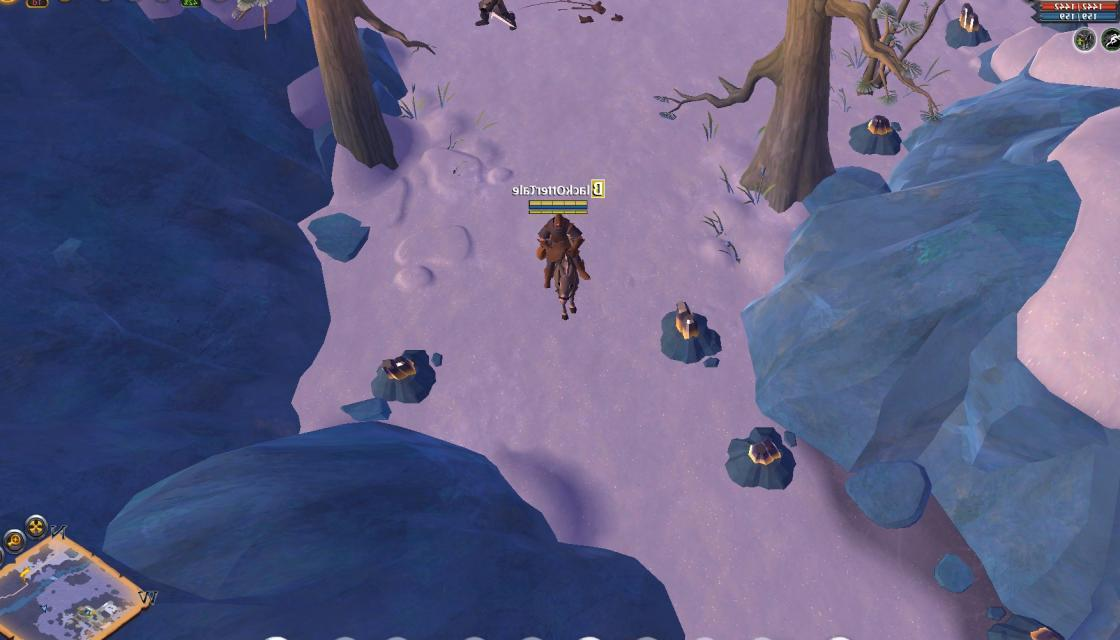copperore: (726, 421, 796, 486), (658, 300, 722, 362), (373, 348, 435, 401), (850, 110, 900, 156), (990, 618, 1082, 640), (948, 0, 988, 46)
